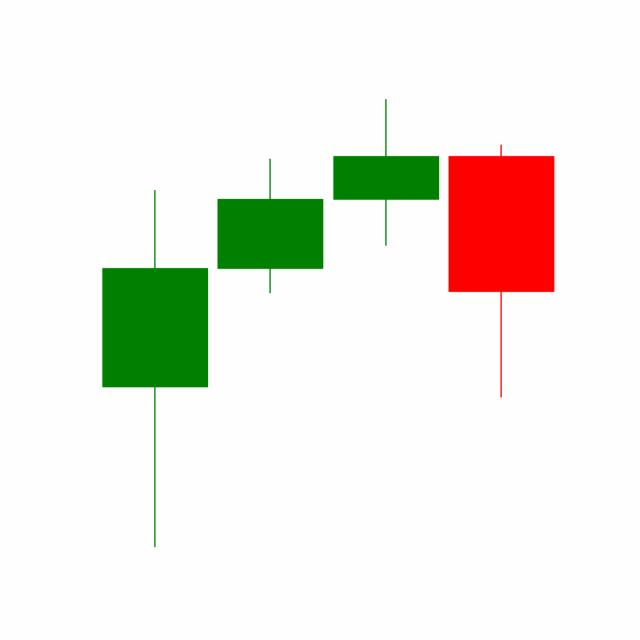Spinning Top: (328, 97, 444, 247)
